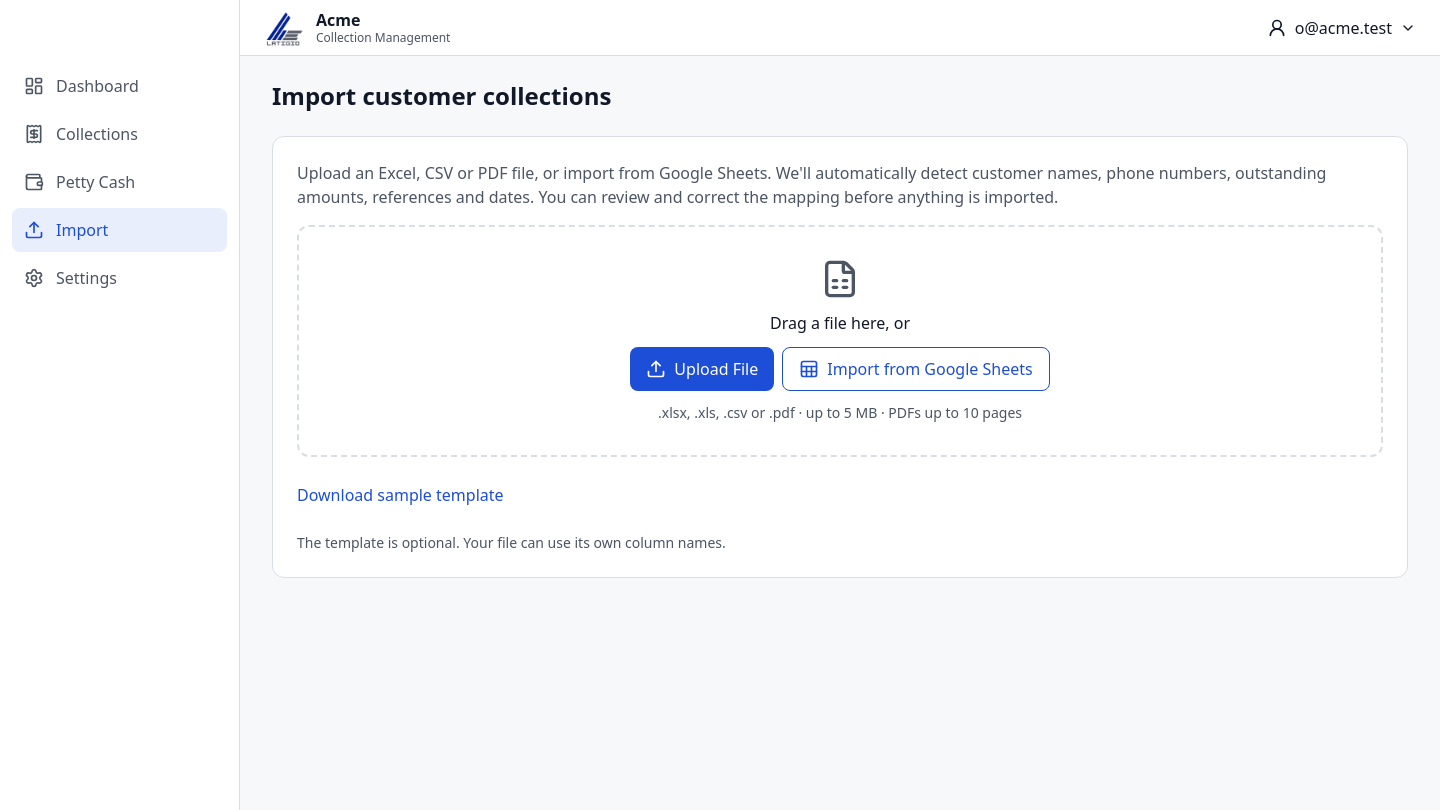
Test case: Google Sheets source › says private sheets are not set up when there is no service account
The image size is (1440, 810).
Expected: the heading "Import customer collections" is shown, [272,79,611,112]
What coordinates should you click on to do the following:
click the button "Import from Google Sheets"
I would click on:
 (916, 369)
Its box is [782,347,1050,391].
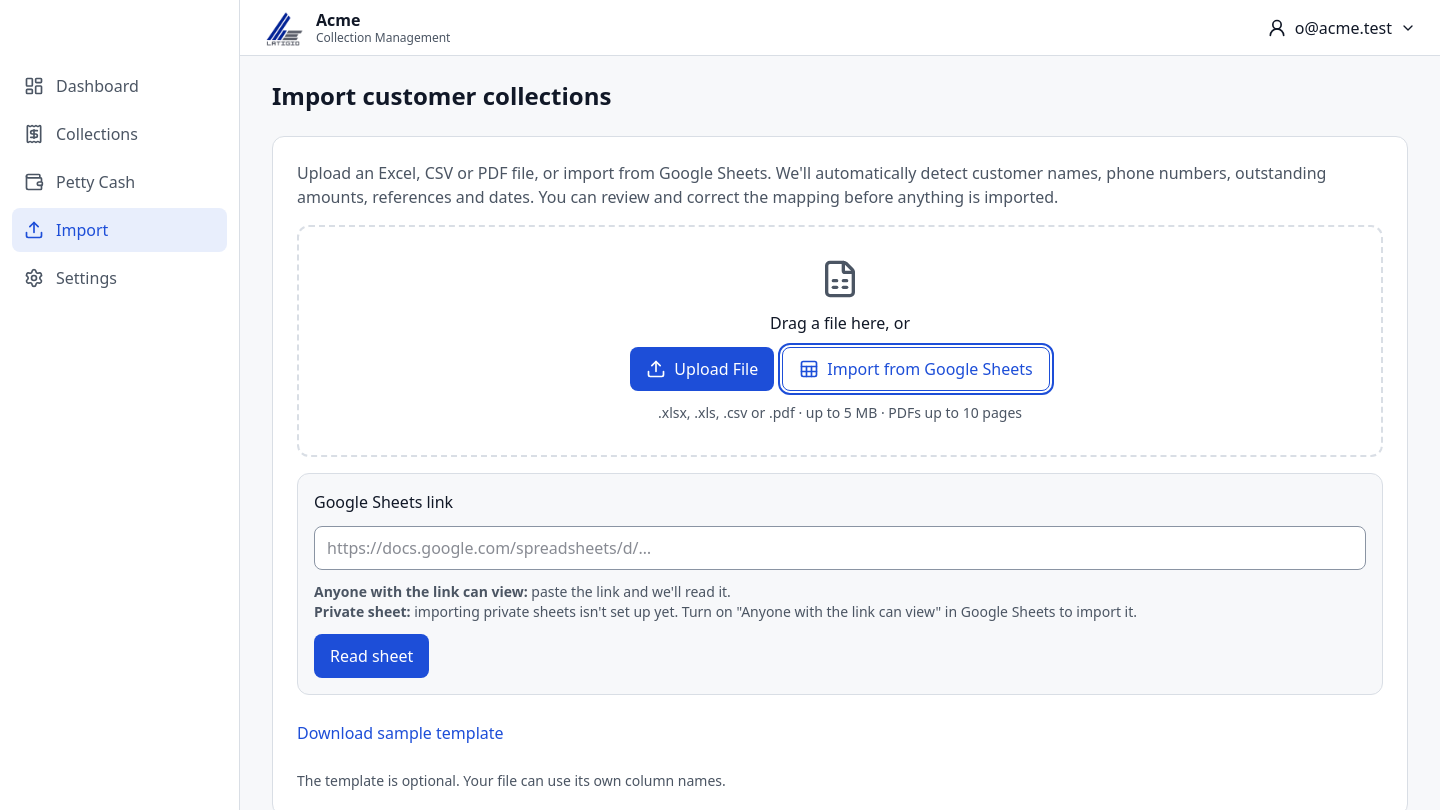
Result: the text "importing private sheets isn't set up yet" is shown at [411,602,1137,621]
